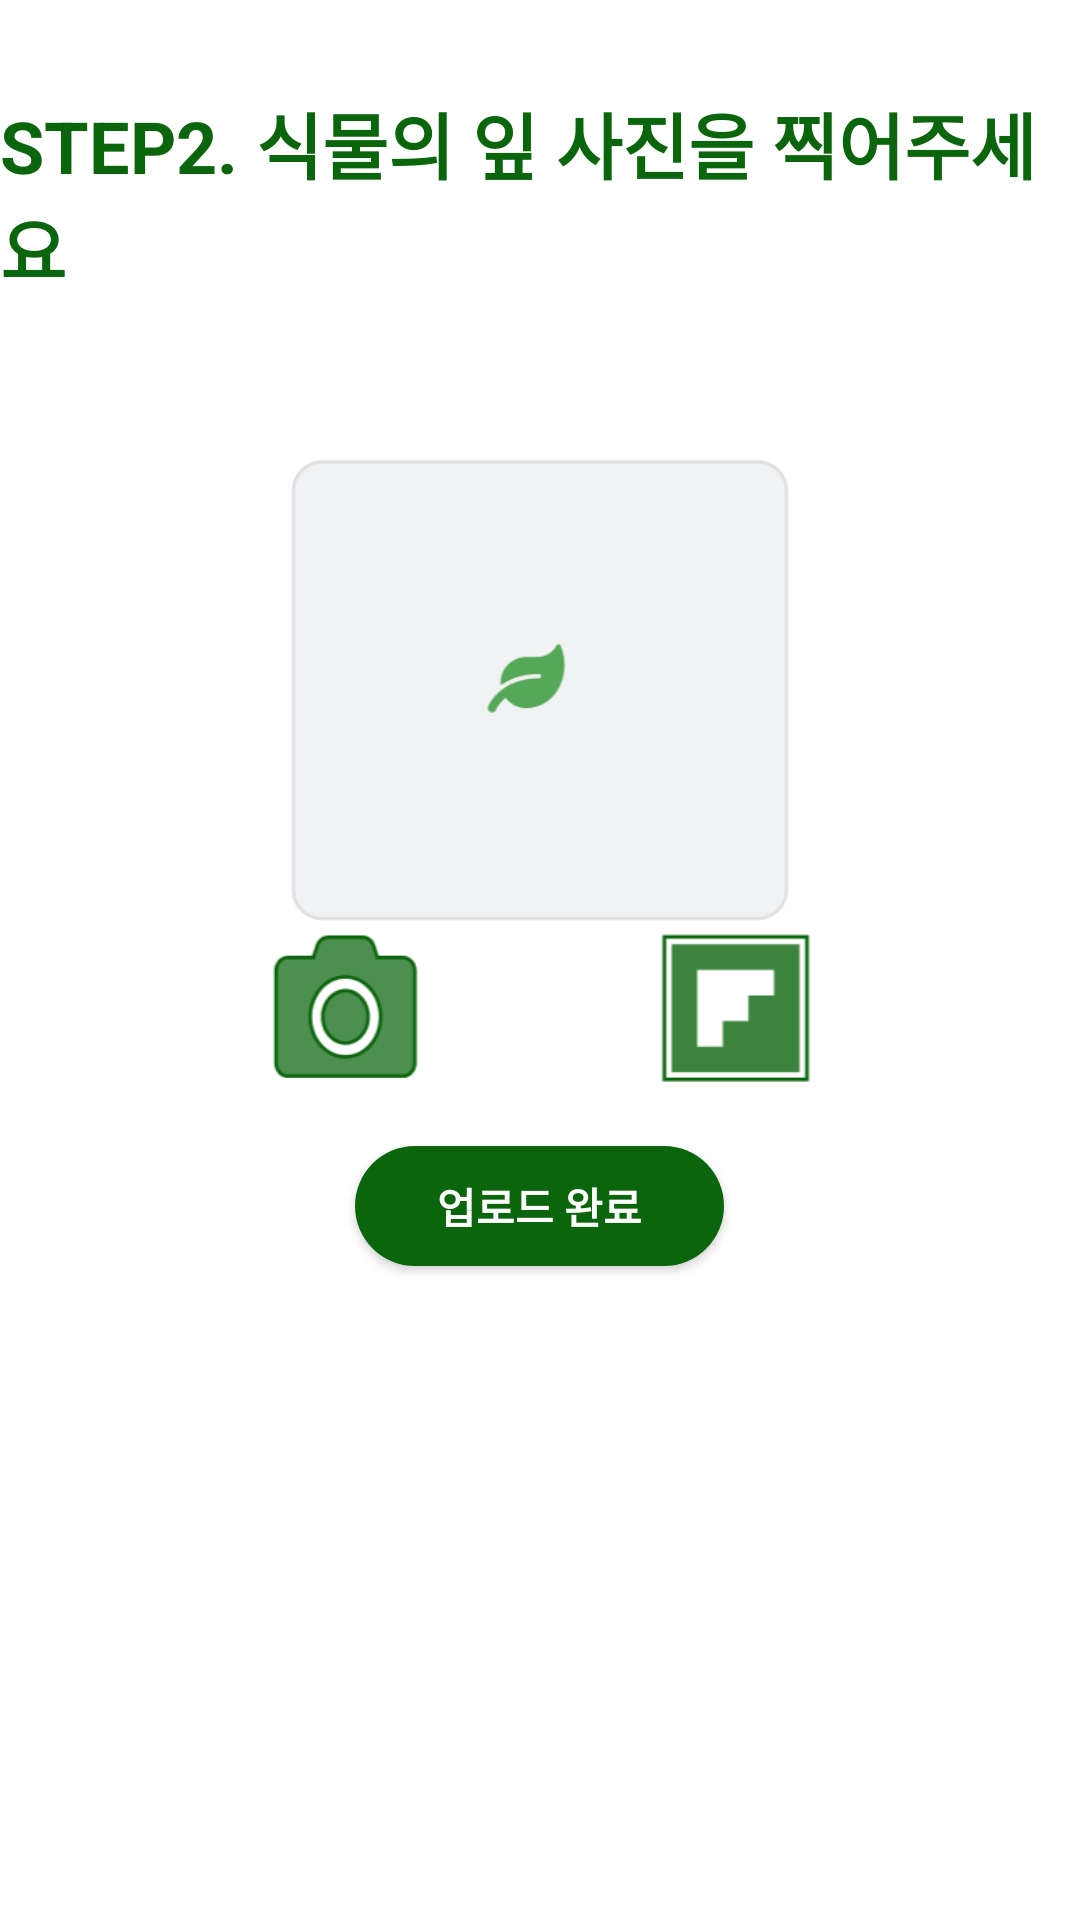

Where to tap for icons on this 1080×1920 app screen, as (x=x, y=y):
camera: (x=345, y=1006)
